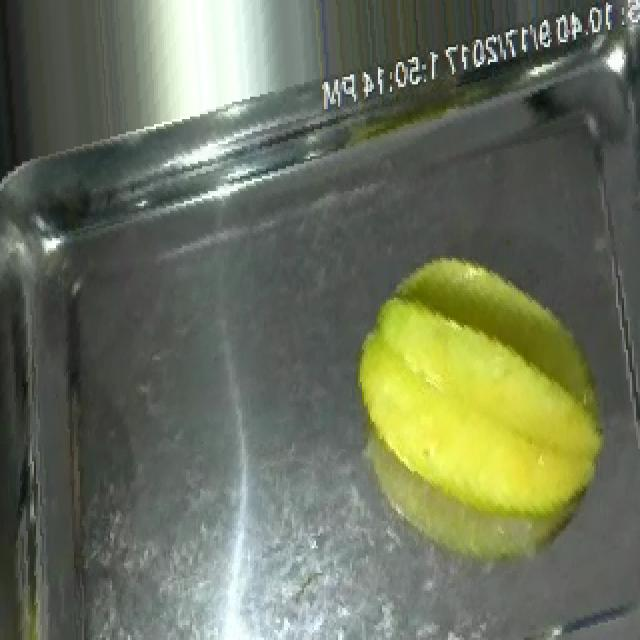fruit: (328, 208, 634, 570)
